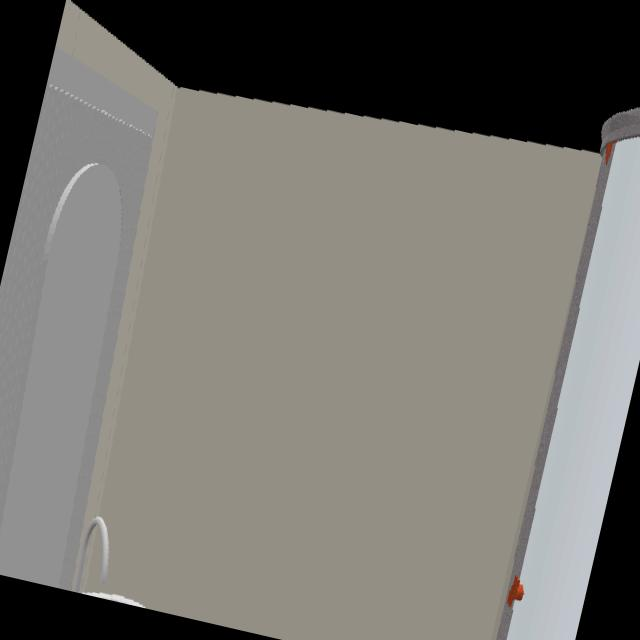shower: (504, 134, 640, 640)
